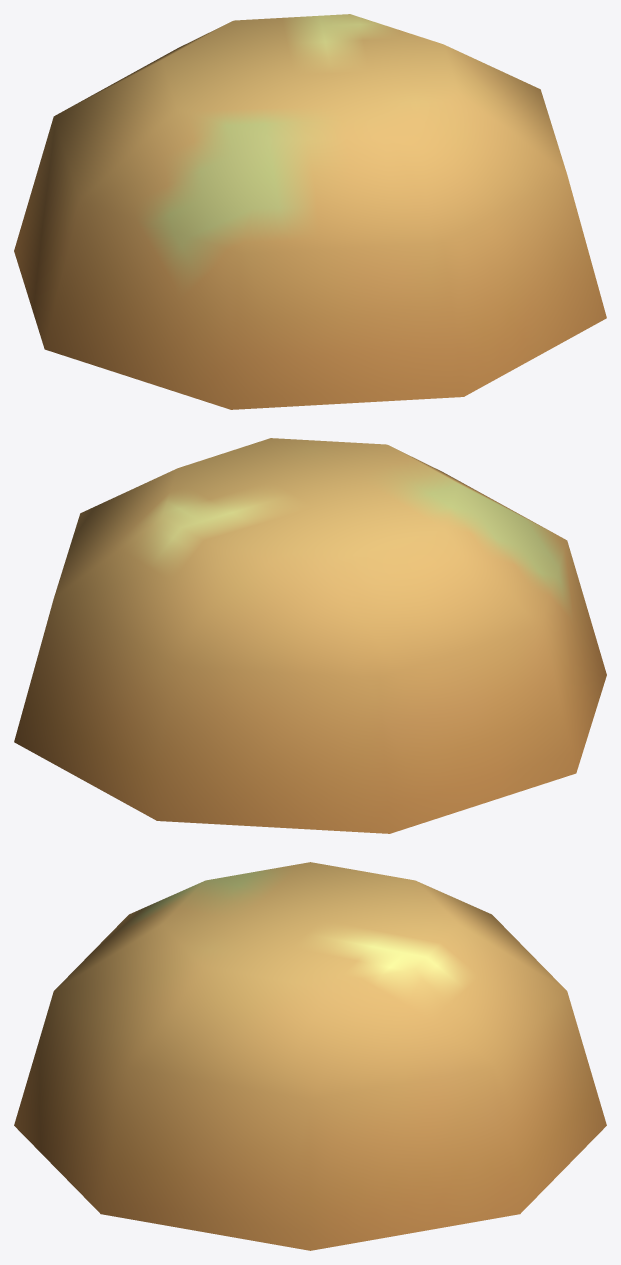
Rendered from SM_Magnet_B.glb.
The picture shows the model from 3 angles, top to bottom: view 1: azimuth 30°, elevation 25°; view 2: azimuth 150°, elevation 25°; view 3: azimuth 270°, elevation 25°; orthographic projection. The views are drawn at different scales.
Visible parts, largest first — view 1: SM_Magnet_B; view 2: SM_Magnet_B; view 3: SM_Magnet_B.
Boxes of the visible parts, x1,y1,x2,y2 form: SM_Magnet_B: [14, 14, 606, 409]; SM_Magnet_B: [14, 438, 606, 833]; SM_Magnet_B: [14, 862, 606, 1250].
Size of the model in its own units: 0.0833 by 0.0311 by 0.0833.
1 material, 1 textured.
